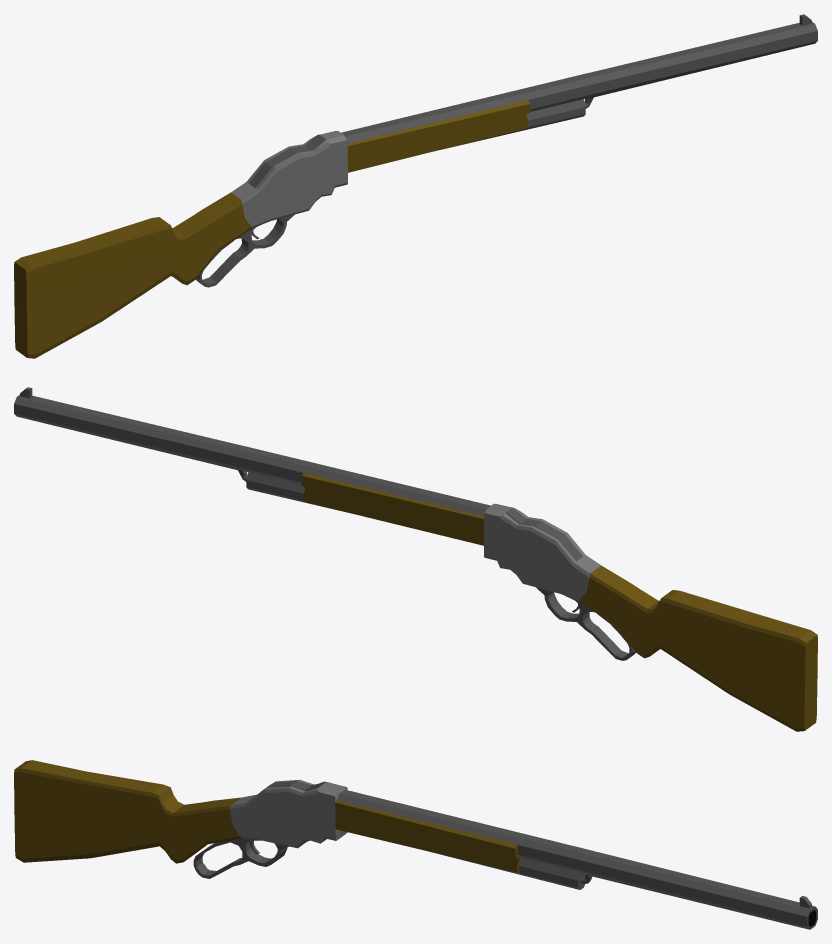
Rendered from shotgun.fbx.
The picture shows the model from 3 angles, top to bottom: view 1: azimuth 30°, elevation 25°; view 2: azimuth 150°, elevation 25°; view 3: azimuth 330°, elevation 25°; orthographic projection.
Parts seen in each view (by area): view 1: Body, Lever; view 2: Body, Lever; view 3: Body, Lever.
Boxes of the visible parts, bbox=[...] form: Body: bbox=[14, 14, 817, 358]; Lever: bbox=[195, 134, 324, 287]; Body: bbox=[14, 387, 817, 731]; Lever: bbox=[506, 508, 635, 660]; Body: bbox=[14, 760, 817, 929]; Lever: bbox=[193, 781, 325, 878].
Bounding box in the file's own units: 908 × 164 × 28.81.
